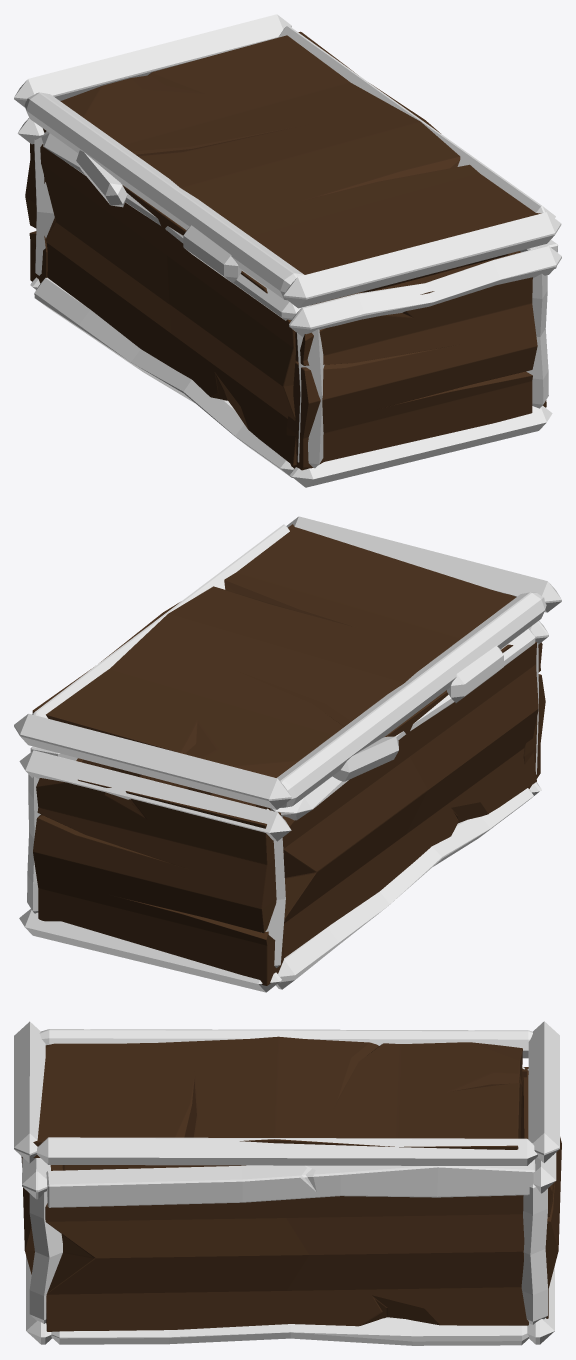
The model's file is Chest 2.fbx.
3 renders of one model, top to bottom at view 1: azimuth 30°, elevation 25°; view 2: azimuth 150°, elevation 25°; view 3: azimuth 270°, elevation 25°, orthographic. The views are drawn at different scales.
Visible parts, largest first — view 1: Plank .043, Plank .042, Plank .039, Cube.272, Cube.273, Cube.265, Cube.274, Cube.260, Cube.257, Cube.271, Cube.268, Cube.261 (+5 smaller); view 2: Plank .043, Plank .040, Plank .042, Cube.272, Cube.274, Cube.266, Cube.260, Cube.273, Cube.258, Cube.271, Cube.268, Cube.270 (+4 smaller); view 3: Plank .038, Plank .043, Cube.267, Cube.271, Cube.259, Cube.272, Cube.274, Cube.273, Cube.262, Cube.261, Plank .040, Cube.265 (+5 smaller).
Boxes of the visible parts, x1=… form: Plank .043: x1=60, y1=31, x2=541, y2=274; Plank .042: x1=40, y1=144, x2=296, y2=465; Plank .039: x1=286, y1=255, x2=537, y2=470; Cube.272: x1=24, y1=92, x2=304, y2=300; Cube.273: x1=283, y1=212, x2=561, y2=308; Cube.265: x1=289, y1=245, x2=561, y2=336; Cube.274: x1=14, y1=14, x2=291, y2=107; Cube.260: x1=34, y1=277, x2=293, y2=477; Cube.257: x1=290, y1=405, x2=552, y2=487; Cube.271: x1=278, y1=25, x2=555, y2=218; Cube.268: x1=41, y1=131, x2=307, y2=320; Cube.261: x1=526, y1=273, x2=548, y2=408; Plank .043: x1=32, y1=524, x2=516, y2=777; Plank .040: x1=33, y1=778, x2=283, y2=985; Plank .042: x1=256, y1=642, x2=538, y2=957; Cube.272: x1=276, y1=592, x2=546, y2=807; Cube.274: x1=14, y1=713, x2=291, y2=809; Cube.266: x1=19, y1=750, x2=291, y2=841; Cube.260: x1=275, y1=788, x2=533, y2=989; Cube.273: x1=286, y1=516, x2=561, y2=612; Cube.258: x1=19, y1=909, x2=281, y2=992; Cube.271: x1=32, y1=524, x2=289, y2=718; Cube.268: x1=270, y1=628, x2=535, y2=820; Cube.270: x1=447, y1=645, x2=503, y2=702; Plank .038: x1=45, y1=1195, x2=528, y2=1331; Plank .043: x1=33, y1=1036, x2=522, y2=1157; Cube.267: x1=46, y1=1159, x2=535, y2=1207; Cube.271: x1=36, y1=1137, x2=537, y2=1165; Cube.259: x1=51, y1=1317, x2=528, y2=1345; Cube.272: x1=39, y1=1029, x2=532, y2=1058; Cube.274: x1=528, y1=1021, x2=559, y2=1162; Cube.273: x1=14, y1=1021, x2=45, y2=1163; Cube.262: x1=521, y1=1184, x2=547, y2=1324; Cube.261: x1=29, y1=1191, x2=62, y2=1323; Plank .040: x1=520, y1=1067, x2=561, y2=1318; Cube.265: x1=22, y1=1157, x2=50, y2=1199.
Size of the model in its own units: 31.42 by 23.17 by 53.5.
